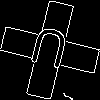U: (25, 25, 72, 79)
